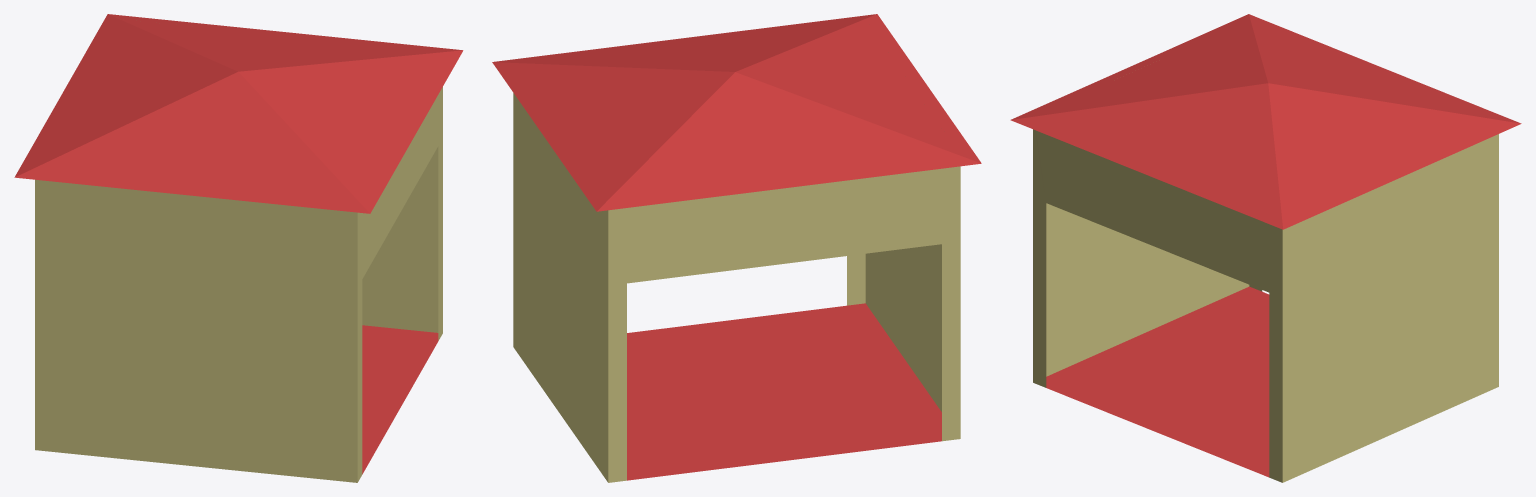
The picture shows the model from 3 angles, left to right: view 1: azimuth 30°, elevation 25°; view 2: azimuth 150°, elevation 25°; view 3: azimuth 270°, elevation 25°; orthographic projection. The views are drawn at different scales.
Size of the model in its own units: 15.76 by 15.8 by 10.28.
